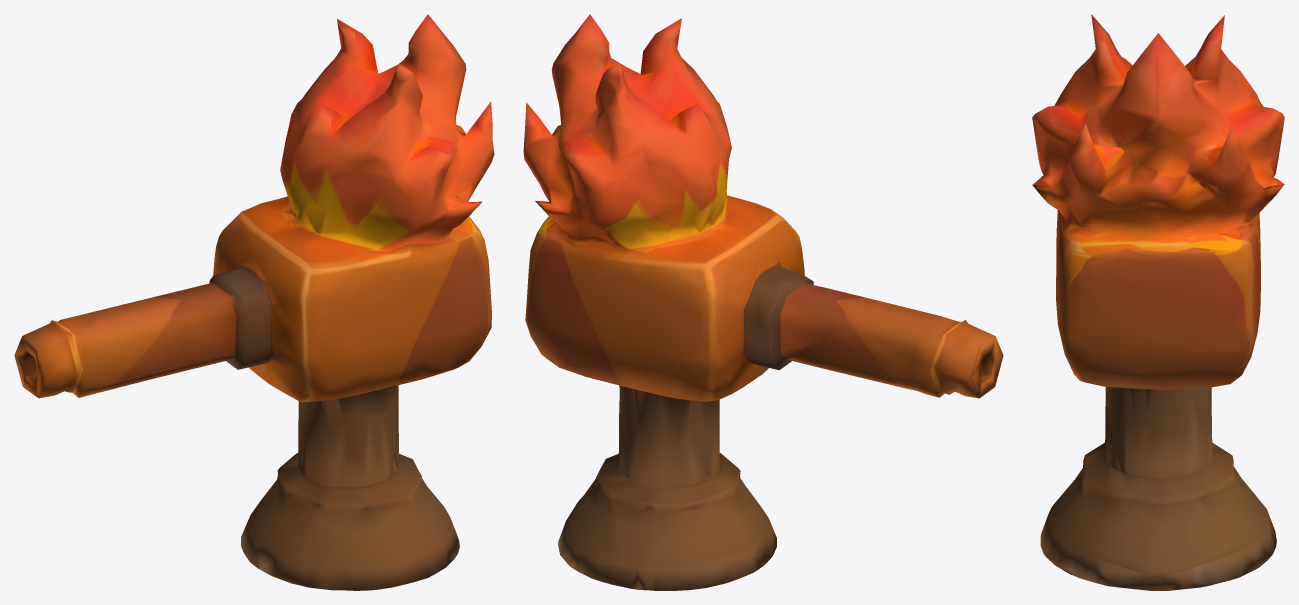
File: Fire_Cannon_Turret_1214001756_texture.fbx
3 views of the same model, side by side, from view 1: azimuth 30°, elevation 25°; view 2: azimuth 150°, elevation 25°; view 3: azimuth 270°, elevation 25° (orthographic). The views are drawn at different scales.
Parts seen in each view (by area): view 1: Mesh_0; view 2: Mesh_0; view 3: Mesh_0.
Part boxes in pixels (x1,y1,x2,y2): Mesh_0: [14, 14, 494, 590]; Mesh_0: [523, 14, 1003, 590]; Mesh_0: [1032, 14, 1284, 590].
Bounding box in the file's own units: 171 × 192 × 79.93.
1 material, 1 textured.
